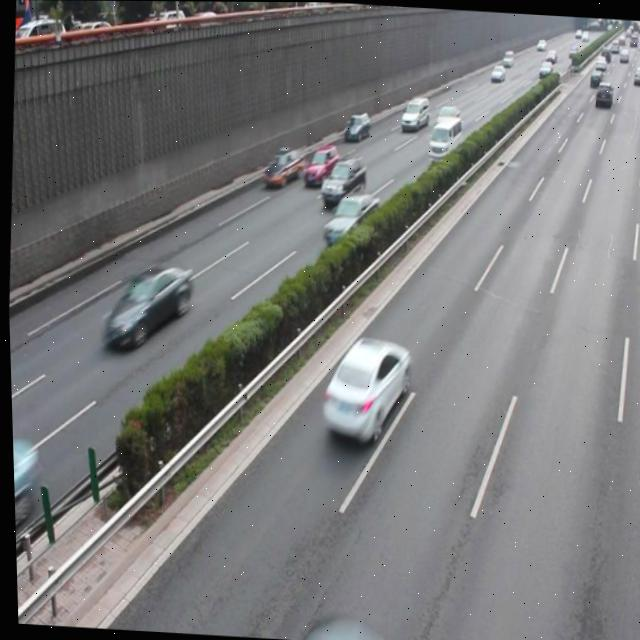car: (314, 334, 409, 448), (99, 260, 193, 353), (318, 190, 379, 247), (10, 435, 36, 556), (317, 153, 366, 205), (301, 141, 338, 187), (261, 145, 303, 185)
